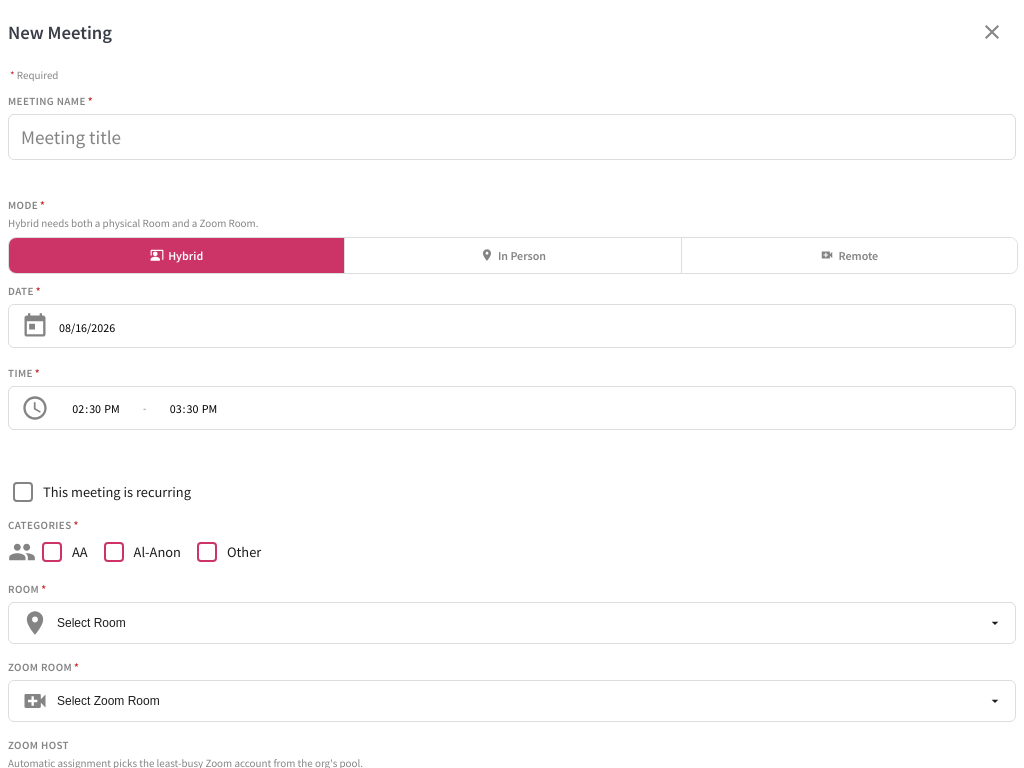
Test: NewMeetingSidebar linked schedule › locks the second schedule out of this meeting's own mode and days
Type "One Day at a Time" into the field with placeholder "Meeting title" at (512, 137), box [21, 115, 1003, 159]
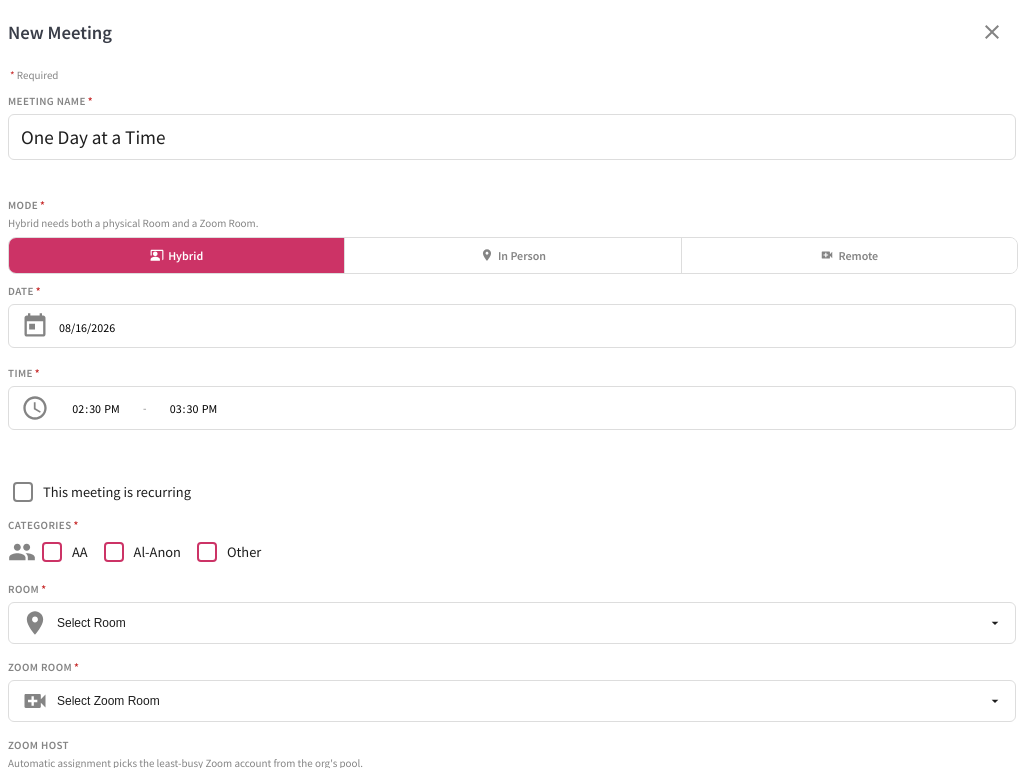
Click the button "In Person" at (513, 256), box [345, 238, 682, 273]
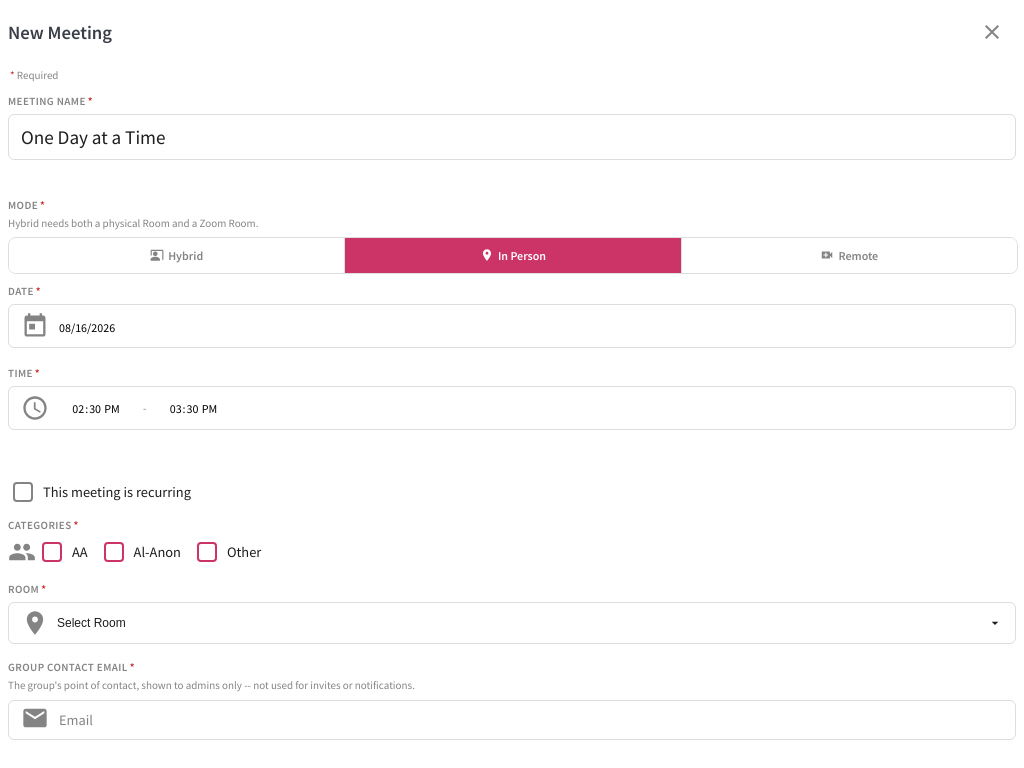
Replace the text in the field with placeholder "MM/DD/YYYY" with "09/07/2026" at (532, 328), box [57, 319, 1007, 336]
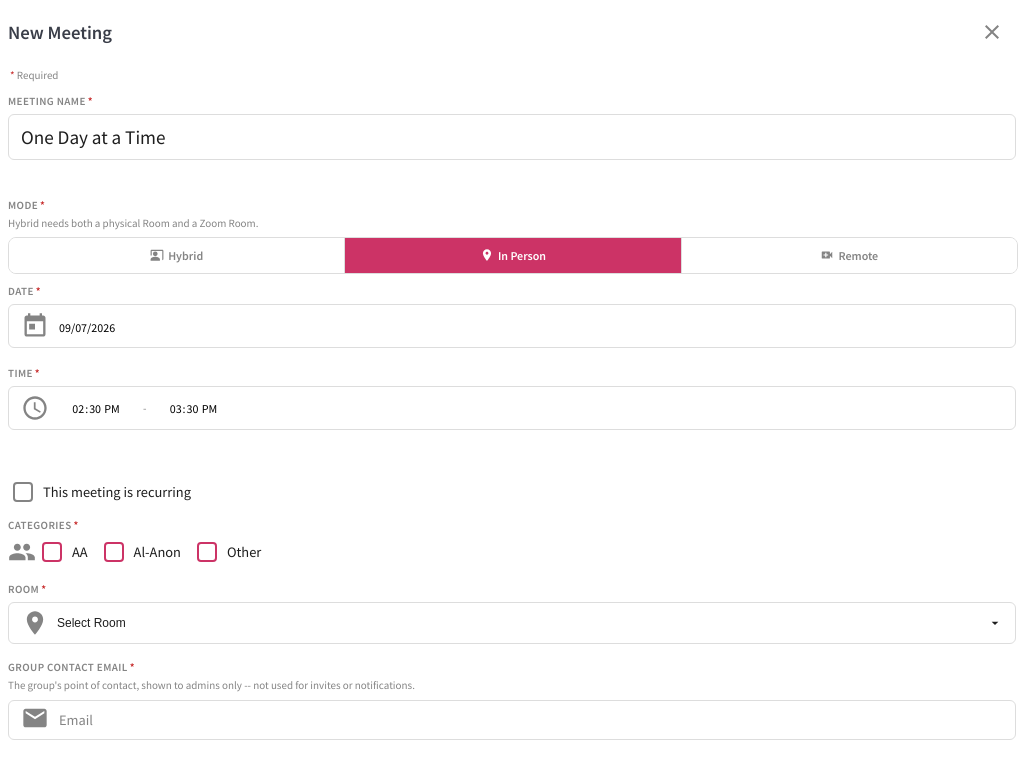
Type "odaat@test.icr" into the field with placeholder "email" at (531, 720), box [59, 701, 1003, 739]
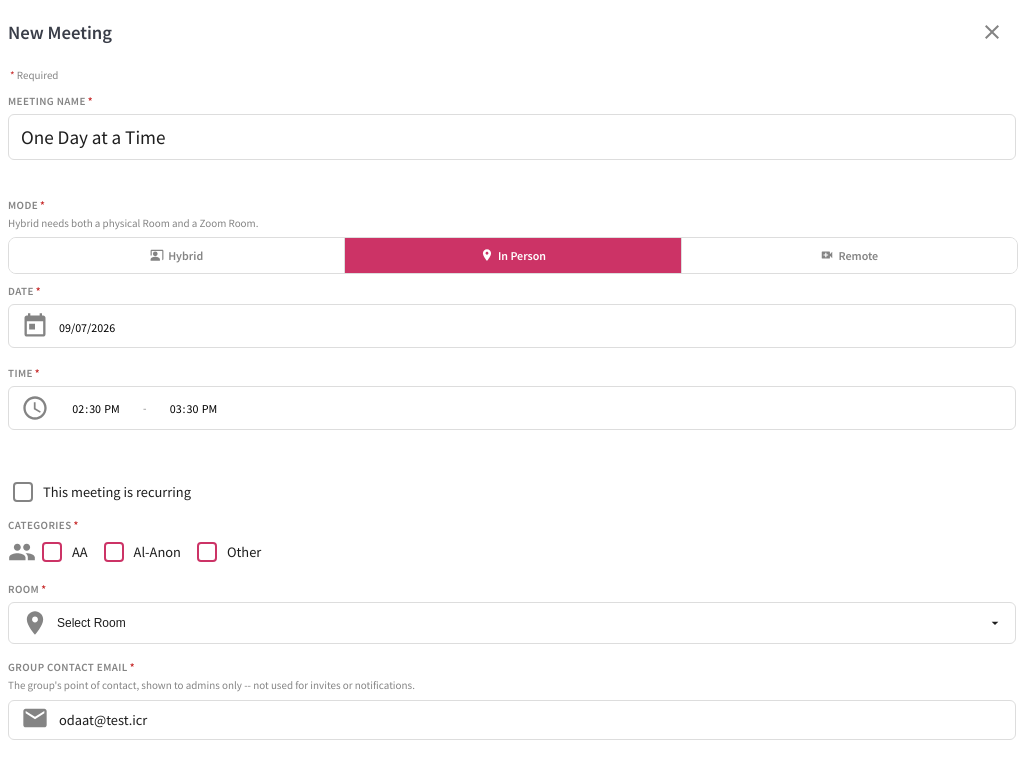
Click the text "This meeting is recurring" at (117, 492), box [43, 483, 191, 501]
(page scrolled)
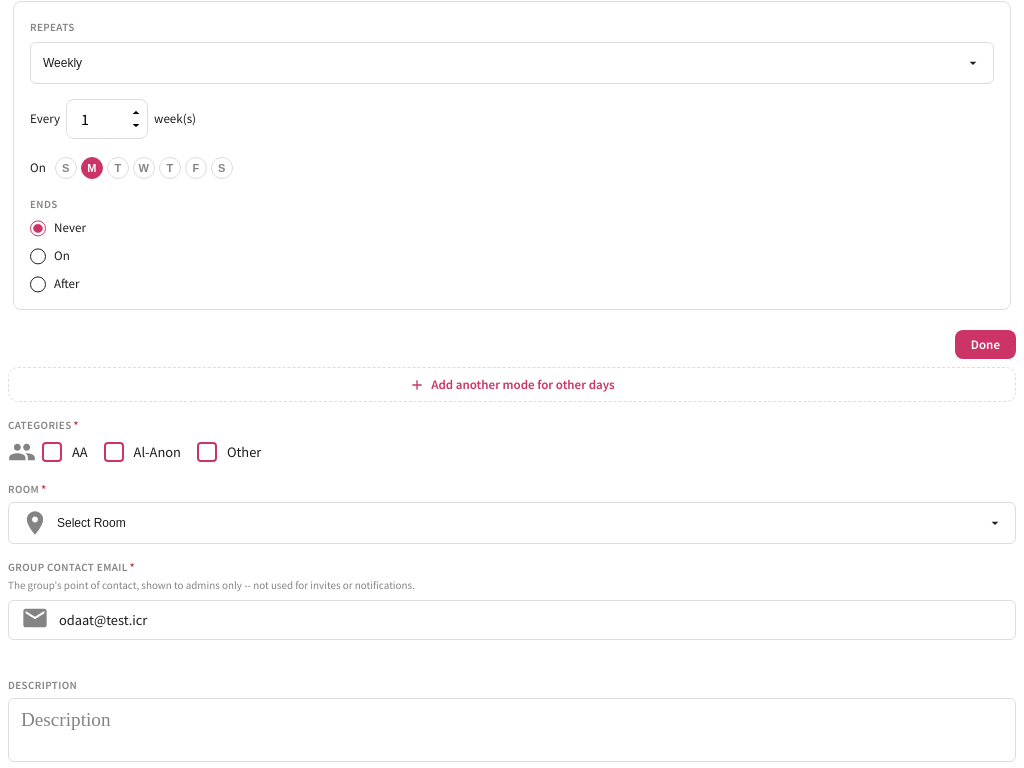
Click the button "Add another mode for other days" at (512, 385), box [8, 367, 1016, 402]
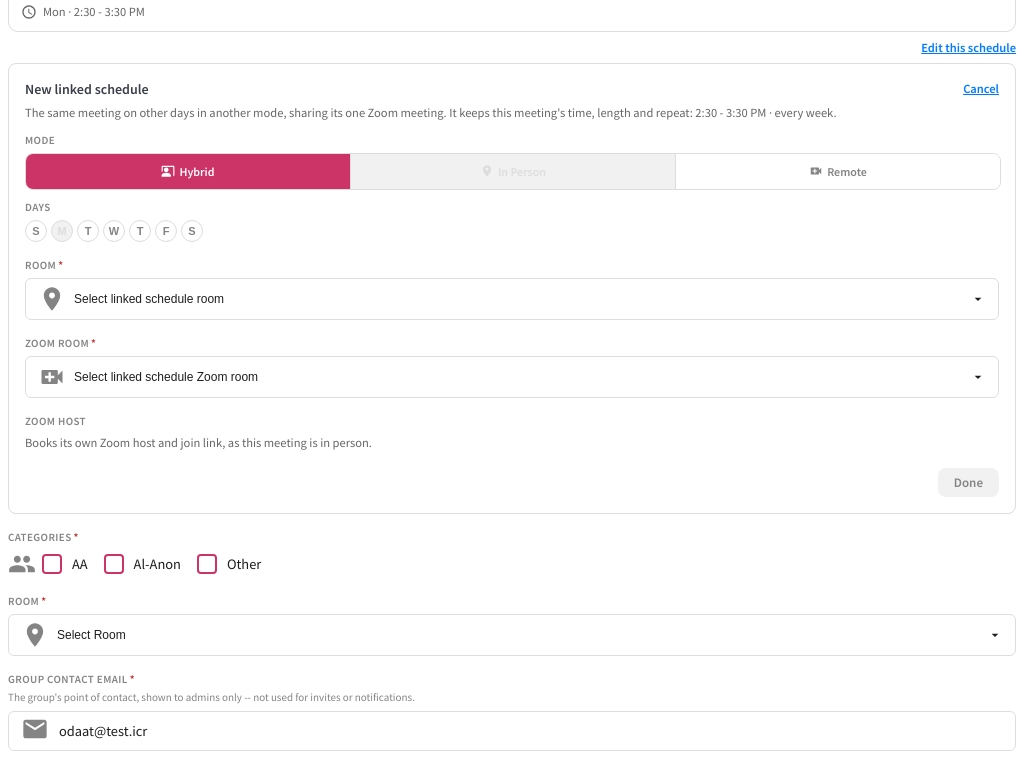
Expected: the button named "Saturday" is enabled, [181, 220, 203, 242]
Expected: the button "In Person" is disabled, [351, 154, 676, 189]
Expected: the button named "Monday" is disabled, [51, 220, 73, 242]
